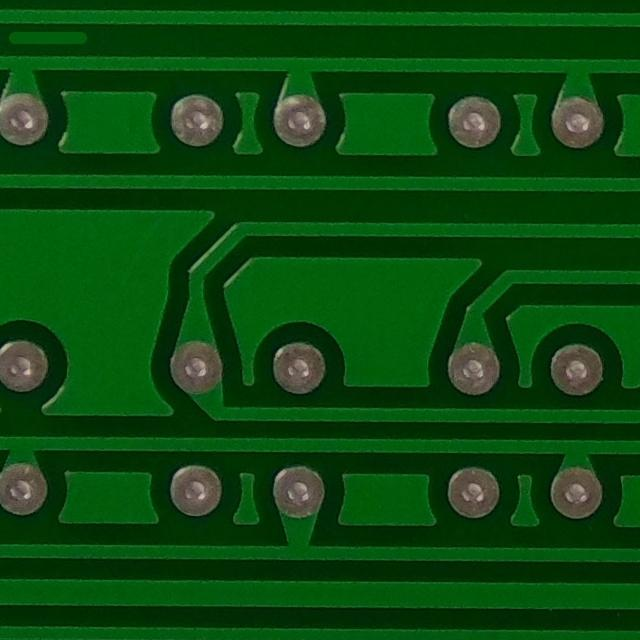spurious_copper: (0, 15, 95, 64)
